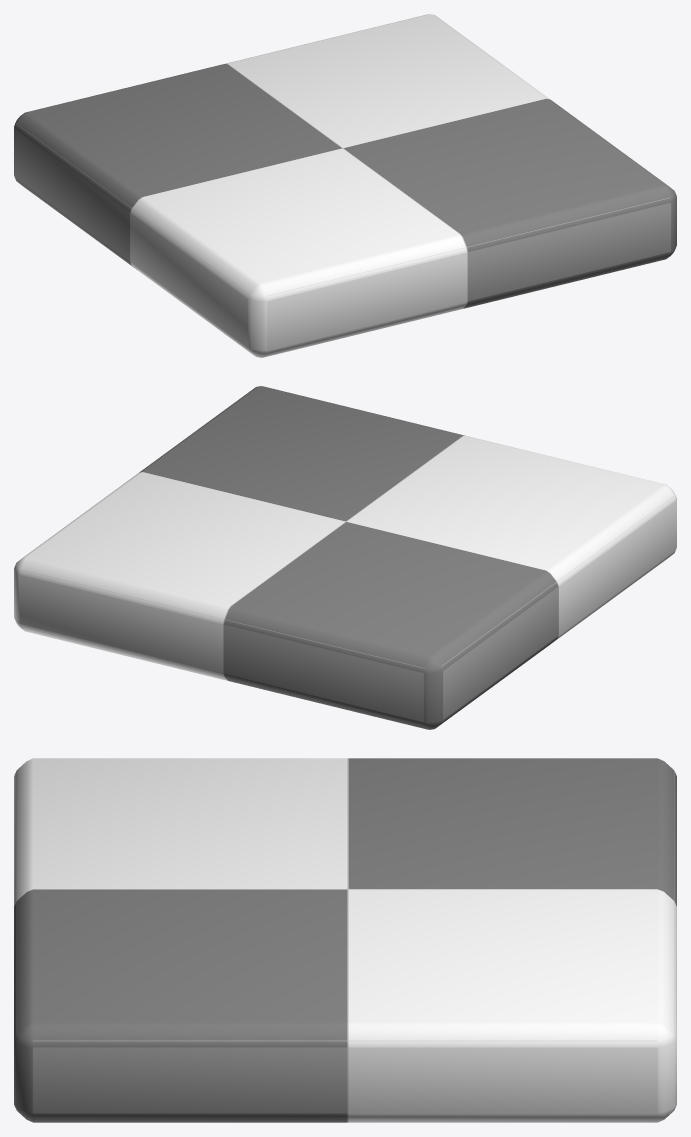
The model's file is TiledPlatform.fbx.
The picture shows the model from 3 angles, top to bottom: view 1: azimuth 30°, elevation 25°; view 2: azimuth 150°, elevation 25°; view 3: azimuth 270°, elevation 25°; orthographic projection. The views are drawn at different scales.
Parts seen in each view (by area): view 1: Cube; view 2: Cube; view 3: Cube.
Boxes of the visible parts, x1,y1,x2,y2 form: Cube: (14,14,676,357); Cube: (14,386,676,729); Cube: (14,758,676,1122).
Size of the model in its own units: 6 by 1 by 6.
